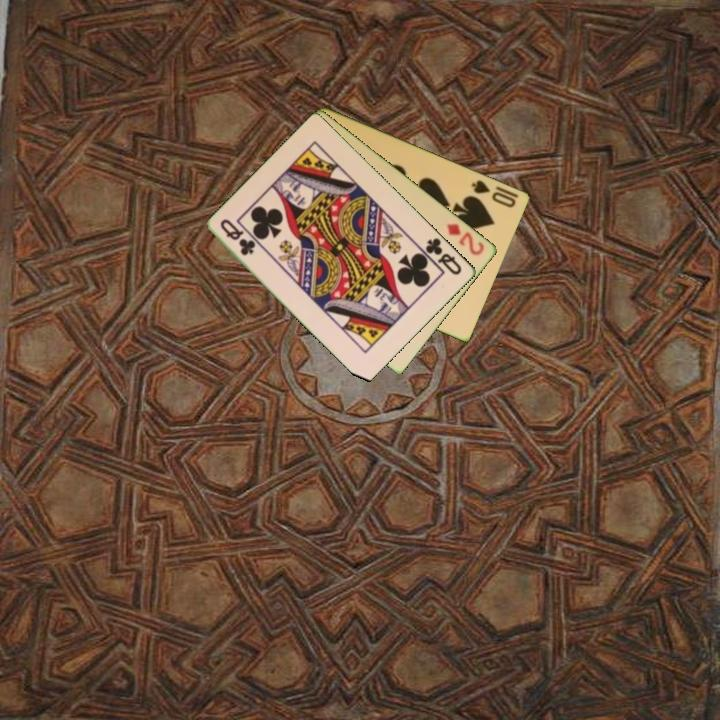10s: (468, 176, 519, 210)
2d: (443, 220, 487, 258)
Qc: (422, 234, 465, 278), (217, 215, 259, 259)
